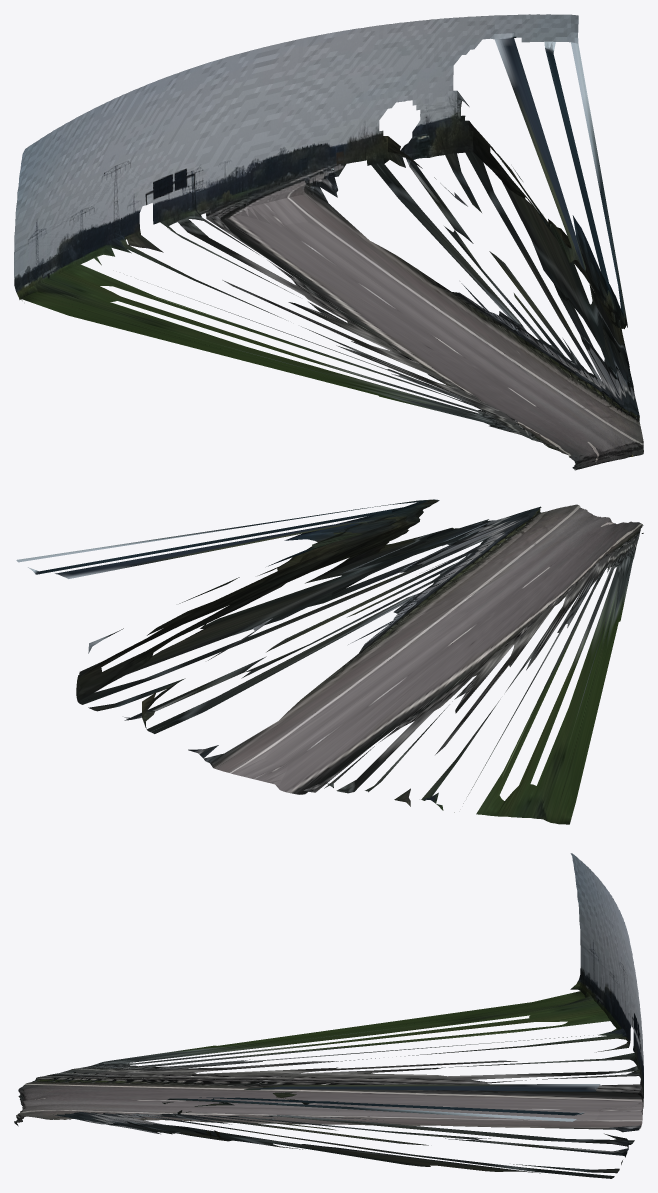
3 renders of one model, top to bottom at view 1: azimuth 30°, elevation 25°; view 2: azimuth 150°, elevation 25°; view 3: azimuth 270°, elevation 25°, orthographic. The views are drawn at different scales.
Visible parts, largest first — view 1: defaultobject; view 2: defaultobject; view 3: defaultobject.
Part boxes in pixels (left/top/right/bottom): defaultobject: left=14, top=14, right=643, bottom=470; defaultobject: left=16, top=499, right=643, bottom=824; defaultobject: left=14, top=853, right=643, bottom=1178.
Size of the model in its own units: 40.95 by 11.71 by 44.51.
1 material, 1 textured.
